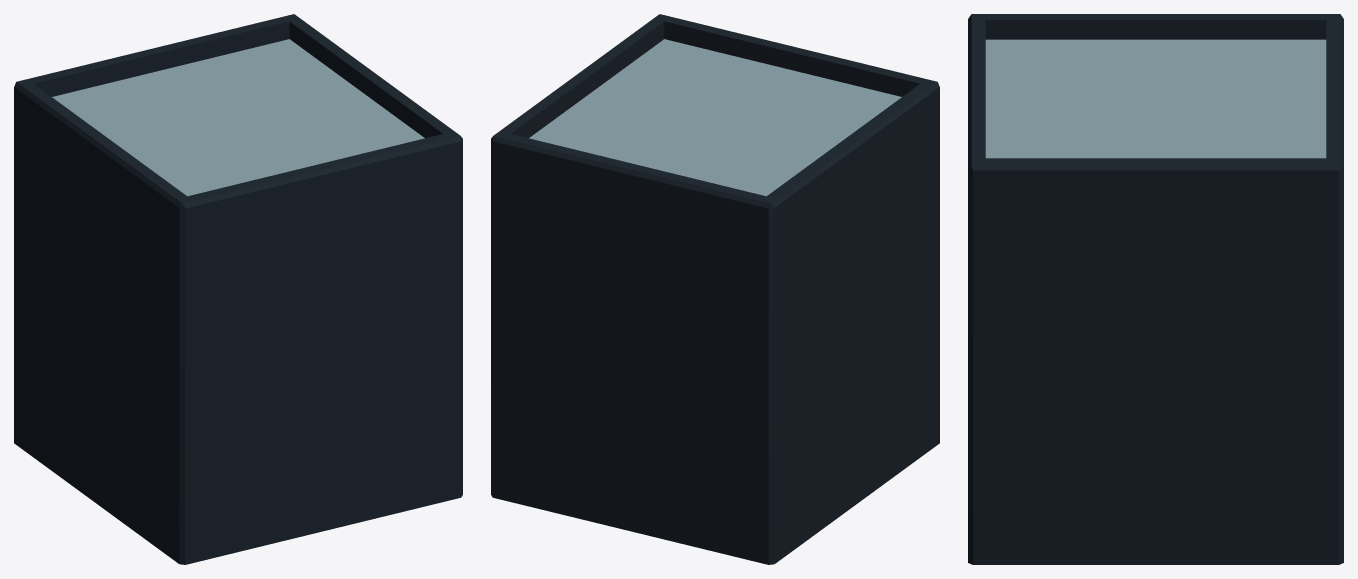
File: Building5.FBX
The picture shows the model from 3 angles, left to right: view 1: azimuth 30°, elevation 25°; view 2: azimuth 150°, elevation 25°; view 3: azimuth 270°, elevation 25°; orthographic projection. The views are drawn at different scales.
Parts seen in each view (by area): view 1: Box004; view 2: Box004; view 3: Box004.
Boxes of the visible parts, box(x1,y1,x2,y2) form: Box004: box(14, 14, 462, 564); Box004: box(491, 14, 939, 564); Box004: box(968, 14, 1343, 564).
Size of the model in its own units: 15.55 by 18.89 by 16.11.
